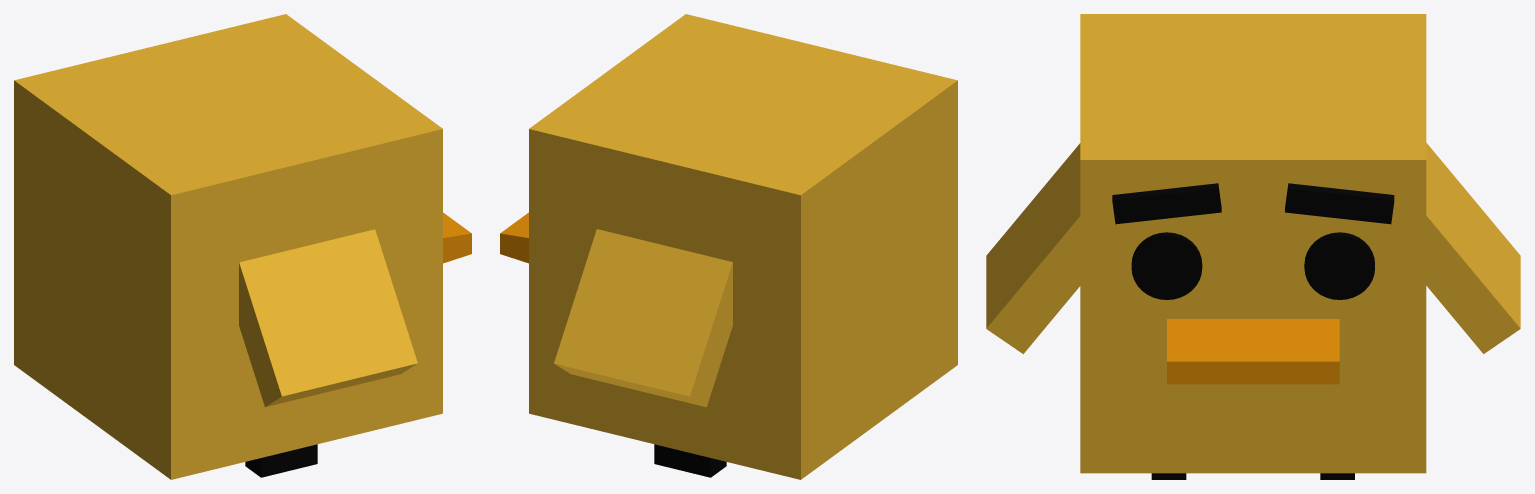
File: Bird.fbx
3 views of the same model, side by side, from view 1: azimuth 30°, elevation 25°; view 2: azimuth 150°, elevation 25°; view 3: azimuth 270°, elevation 25° (orthographic). The views are drawn at different scales.
Visible parts, largest first — view 1: Bird, Wing Right, Legs; view 2: Bird, Wing Left, Legs; view 3: Bird, Wing Left, Wing Right.
Part boxes in pixels (box(x1,y1,x2,y2)): Bird: box(14, 14, 471, 479); Wing Right: box(239, 229, 417, 407); Legs: box(245, 444, 317, 477); Bird: box(500, 14, 957, 479); Wing Left: box(554, 229, 732, 407); Legs: box(654, 444, 726, 477); Bird: box(1080, 14, 1426, 473); Wing Left: box(1426, 143, 1520, 354); Wing Right: box(986, 143, 1080, 354).
Size of the model in its own units: 2.5 by 2.36 by 3.09.
